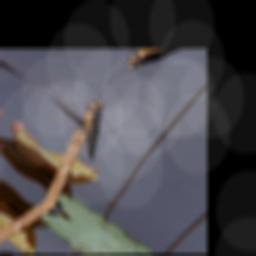Swallow: (59, 96, 128, 163)
